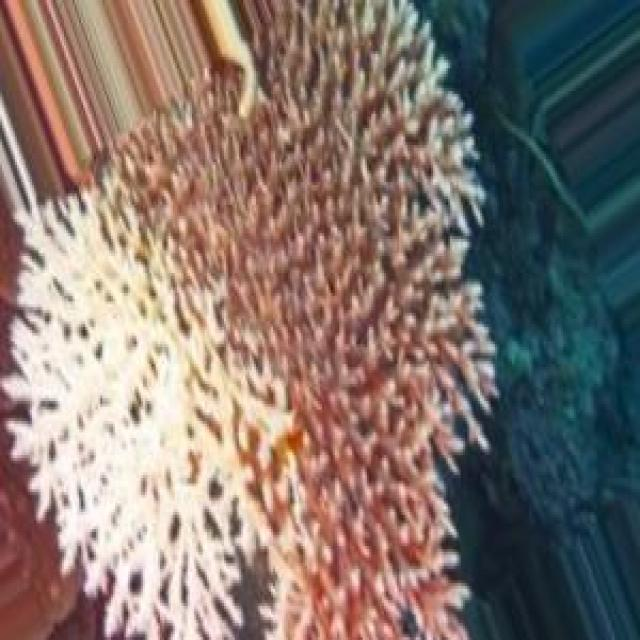Bleached: (7, 193, 276, 638)
Healthy: (91, 4, 496, 637)
